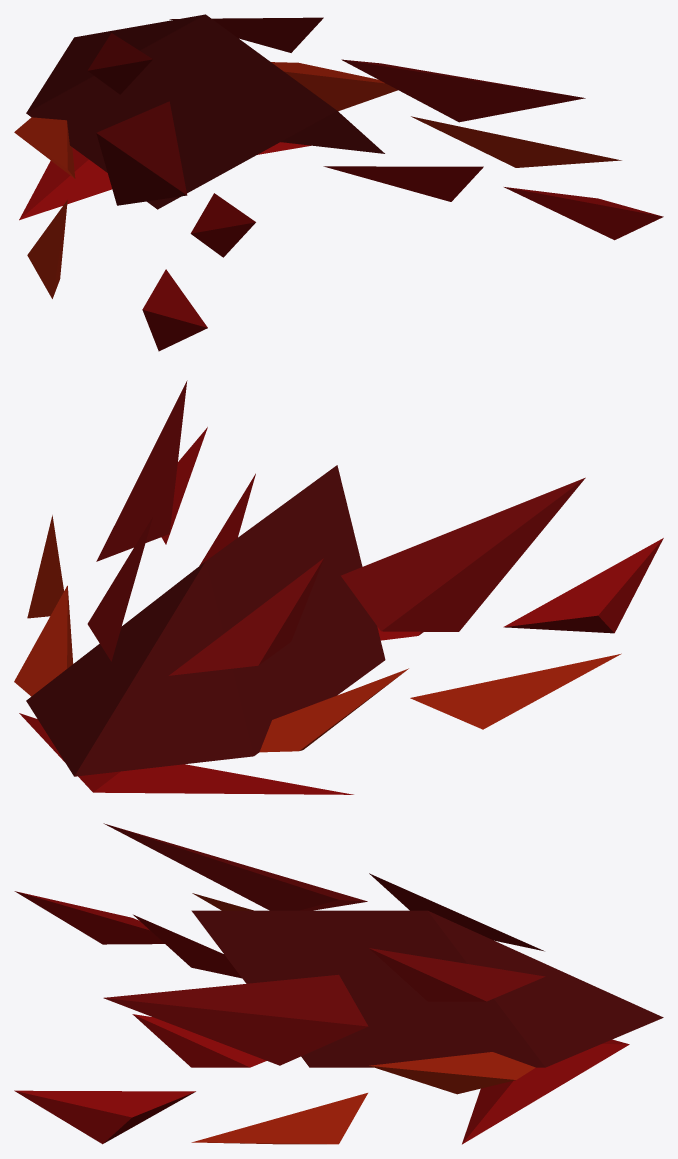
The model's file is enemy_1.obj.
3 renders of one model, top to bottom at view 1: azimuth 30°, elevation 25°; view 2: azimuth 150°, elevation 25°; view 3: azimuth 270°, elevation 25°, orthographic. The views are drawn at different scales.
Parts seen in each view (by area): view 1: s.0007, s.0012, s.0012Mirrored, s.0013Mirrored, s.0011Mirrored, s.0017, s.0016Mirrored, s.0011, s.0014Mirrored, s.0015Mirrored, s.0009, s.0010 (+4 smaller); view 2: s.0007, s.0012, s.0007Mirrored, s.0011, s.0010, s.0012Mirrored, s.0013, s.0017, s.0016, s.0016Mirrored, s.0010Mirrored, s.0013Mirrored (+3 smaller); view 3: s.0007Mirrored, s.0012Mirrored, s.0012, s.0011Mirrored, s.0010Mirrored, s.0017Mirrored, s.0013Mirrored, s.0016Mirrored, s.0011, s.0009Mirrored, s.0009, s.0015.
Boxes of the visible parts, x1,y1,x2,y2 form: s.0007: (26, 14, 336, 209); s.0012: (96, 101, 187, 205); s.0012Mirrored: (341, 59, 585, 122); s.0013Mirrored: (411, 116, 621, 167); s.0011Mirrored: (504, 187, 663, 240); s.0017: (19, 147, 111, 220); s.0016Mirrored: (271, 62, 397, 111); s.0011: (142, 269, 207, 351); s.0014Mirrored: (323, 166, 479, 201); s.0015Mirrored: (169, 17, 323, 52); s.0009: (190, 193, 255, 257); s.0010: (87, 33, 152, 94); s.0007: (74, 465, 385, 776); s.0012: (341, 477, 585, 631); s.0007Mirrored: (26, 561, 205, 776); s.0011: (503, 538, 663, 633); s.0010: (169, 558, 323, 675); s.0012Mirrored: (96, 380, 187, 561); s.0013: (410, 653, 621, 729); s.0017: (93, 764, 353, 794); s.0016: (259, 668, 408, 752); s.0016Mirrored: (14, 585, 73, 696); s.0010Mirrored: (87, 517, 152, 661); s.0013Mirrored: (27, 515, 63, 618); s.0007Mirrored: (191, 910, 663, 1067); s.0012Mirrored: (103, 974, 368, 1065); s.0012: (103, 823, 367, 910); s.0011Mirrored: (14, 1090, 195, 1144); s.0010Mirrored: (369, 948, 545, 1001); s.0017Mirrored: (462, 1044, 629, 1144); s.0013Mirrored: (191, 1093, 367, 1144); s.0016Mirrored: (369, 1052, 535, 1094); s.0011: (14, 891, 164, 944); s.0009Mirrored: (132, 1014, 266, 1067); s.0009: (133, 914, 241, 978); s.0015: (369, 873, 544, 951).
Size of the model in its own units: 1 by 0.3 by 1.1.
